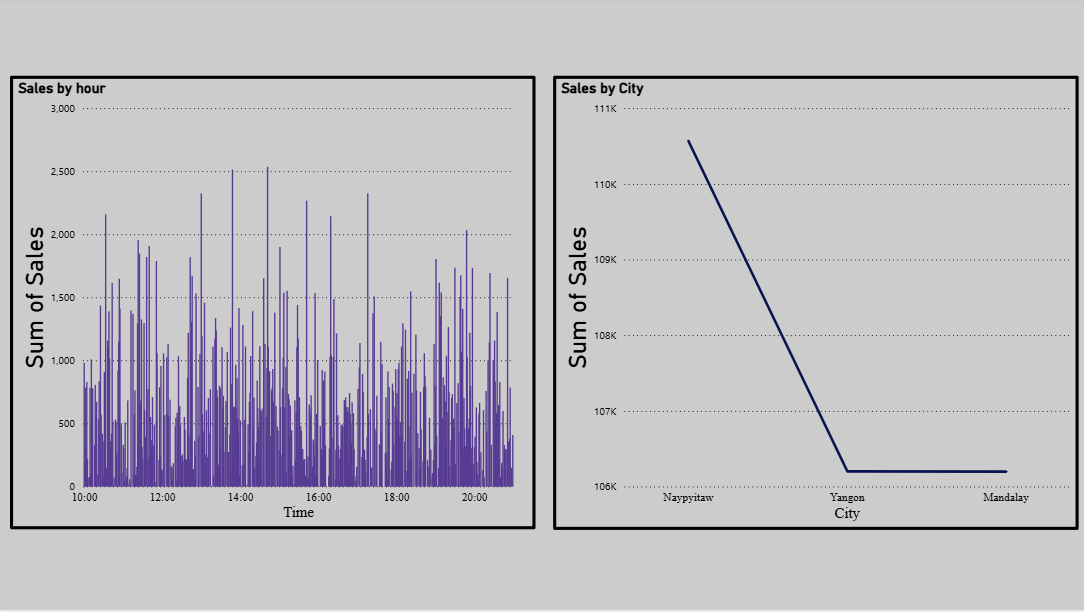

The page's visual inventory and layout, read from the dashboard file:
{"tool":"powerbi","page":{"name":"Page 3","canvas":[1280,720],"ordinal":2},"visuals":[{"type":"lineClusteredColumnComboChart","title":"Sales by hour","fields":{"Category":["SuperMarket Analysis.Time"],"Y":["Sum(SuperMarket Analysis.Sales)"]},"box":[12.9,93.5,615.7,531.9],"z":0},{"type":"lineChart","title":"Sales by City","fields":{"Category":["SuperMarket Analysis.City"],"Y":["Sum(SuperMarket Analysis.Sales)"]},"box":[650,93,616,532],"z":1000}]}

Visuals, with their boxes in screenshot pixels (x1, y1, x2, y2), scaled from the page's 1280x720 canvas onto the 1084x612 screenshot:
"Sales by hour" lineClusteredColumnComboChart: <region>11, 79, 532, 532</region>
"Sales by City" lineChart: <region>550, 79, 1072, 531</region>
